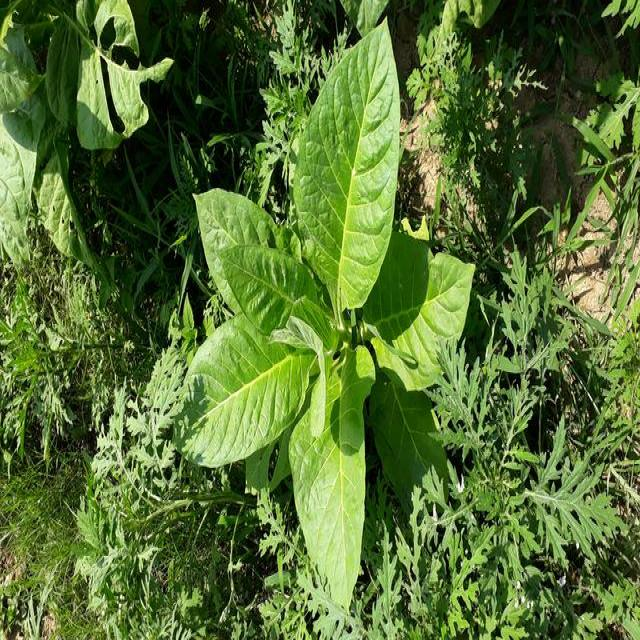crop: (184, 21, 461, 608)
